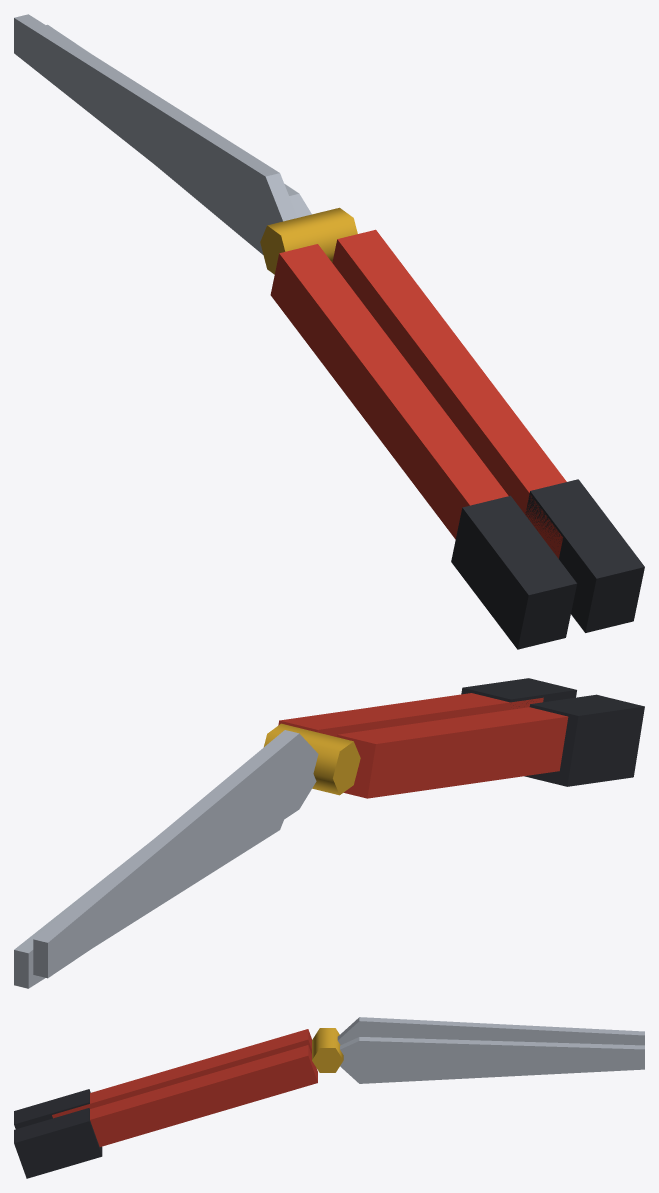
Rendered from tool_shears.glb.
3 renders of one model, top to bottom at view 1: azimuth 30°, elevation 25°; view 2: azimuth 150°, elevation 25°; view 3: azimuth 270°, elevation 25°, orthographic. The views are drawn at different scales.
Visible parts, largest first — view 1: _MeshInstance3D_1044, _MeshInstance3D_1043, _MeshInstance3D_1047, _MeshInstance3D_1045, _MeshInstance3D_1048, _MeshInstance3D_1049; view 2: _MeshInstance3D_1043, _MeshInstance3D_1044, _MeshInstance3D_1045, _MeshInstance3D_1047, _MeshInstance3D_1049, _MeshInstance3D_1046, _MeshInstance3D_1048; view 3: _MeshInstance3D_1046, _MeshInstance3D_1047, _MeshInstance3D_1043, _MeshInstance3D_1048, _MeshInstance3D_1044, _MeshInstance3D_1045, _MeshInstance3D_1049.
Part boxes in pixels (left/top/right/bottom): _MeshInstance3D_1044: left=270, top=244, right=508, bottom=539; _MeshInstance3D_1043: left=14, top=14, right=297, bottom=249; _MeshInstance3D_1047: left=332, top=229, right=566, bottom=558; _MeshInstance3D_1045: left=451, top=495, right=576, bottom=649; _MeshInstance3D_1048: left=525, top=479, right=644, bottom=632; _MeshInstance3D_1049: left=260, top=207, right=357, bottom=274; _MeshInstance3D_1043: left=33, top=730, right=318, bottom=978; _MeshInstance3D_1044: left=337, top=707, right=568, bottom=798; _MeshInstance3D_1045: left=524, top=694, right=644, bottom=786; _MeshInstance3D_1047: left=278, top=693, right=543, bottom=736; _MeshInstance3D_1049: left=264, top=723, right=360, bottom=795; _MeshInstance3D_1046: left=14, top=820, right=283, bottom=988; _MeshInstance3D_1048: left=461, top=678, right=576, bottom=706; _MeshInstance3D_1046: left=340, top=1037, right=644, bottom=1083; _MeshInstance3D_1047: left=90, top=1045, right=317, bottom=1146; _MeshInstance3D_1043: left=337, top=1017, right=644, bottom=1045; _MeshInstance3D_1048: left=14, top=1108, right=102, bottom=1178; _MeshInstance3D_1044: left=52, top=1029, right=311, bottom=1118; _MeshInstance3D_1045: left=14, top=1089, right=90, bottom=1129; _MeshInstance3D_1049: left=312, top=1028, right=343, bottom=1072.
Size of the model in its own units: 0.048 by 0.0981 by 0.3978.
